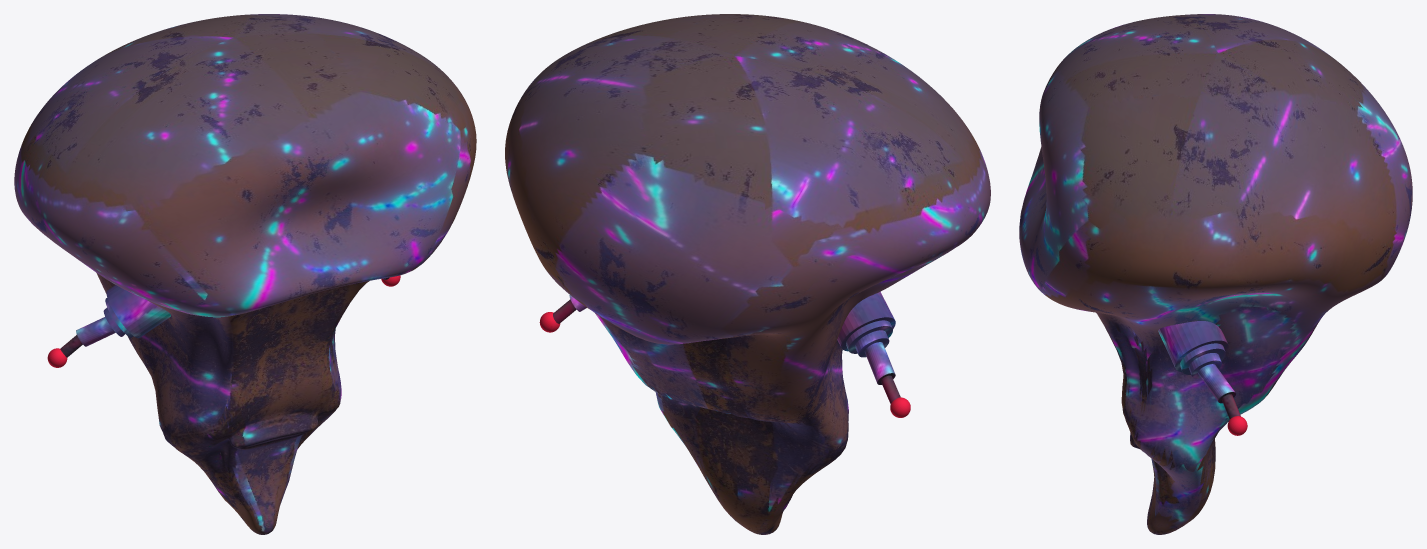
The model's file is Transportation_Cerebellum.glb.
3 views of the same model, side by side, from view 1: azimuth 30°, elevation 25°; view 2: azimuth 150°, elevation 25°; view 3: azimuth 270°, elevation 25° (orthographic). The views are drawn at different scales.
Visible parts, largest first — view 1: Current, Ethical, Potential, Case; view 2: Current, Ethical, Potential, Case, Developing_tech; view 3: Current, Potential, Developing_tech.
Boxes of the visible parts, x1,y1,x2,y2 form: Current: (29,14,465,534); Ethical: (14,124,264,534); Potential: (270,75,476,532); Case: (47,285,170,367); Current: (519,14,974,534); Ethical: (721,133,990,533); Potential: (505,77,710,487); Case: (837,291,910,417); Developing_tech: (539,295,586,332); Current: (1019,14,1412,533); Potential: (1037,210,1387,534); Developing_tech: (1158,321,1247,435).
Bounding box in the file's own units: 0.8443 × 0.9059 × 0.6725.
2 materials, 2 textured.
